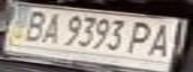3: (106, 17, 133, 53), (75, 15, 96, 49)
9: (57, 12, 84, 47), (90, 16, 112, 52)
A: (142, 20, 181, 58), (33, 11, 66, 45)
B: (15, 8, 51, 43)
P: (124, 19, 160, 56)
